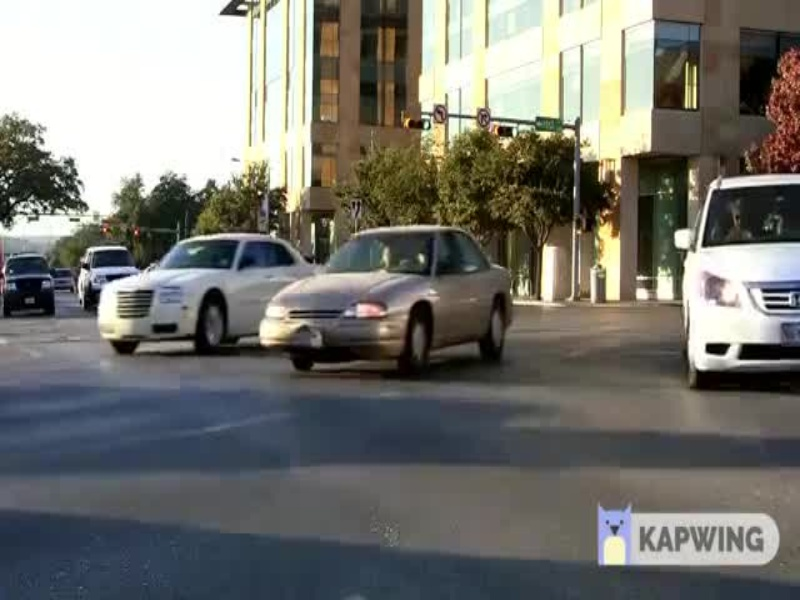car: (258, 221, 535, 380), (674, 151, 800, 395), (85, 223, 316, 352), (1, 250, 61, 323)
